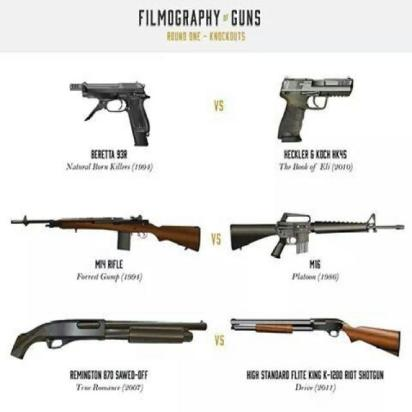Gun: (228, 204, 407, 261), (9, 208, 204, 258), (67, 77, 155, 149), (274, 73, 356, 145)
